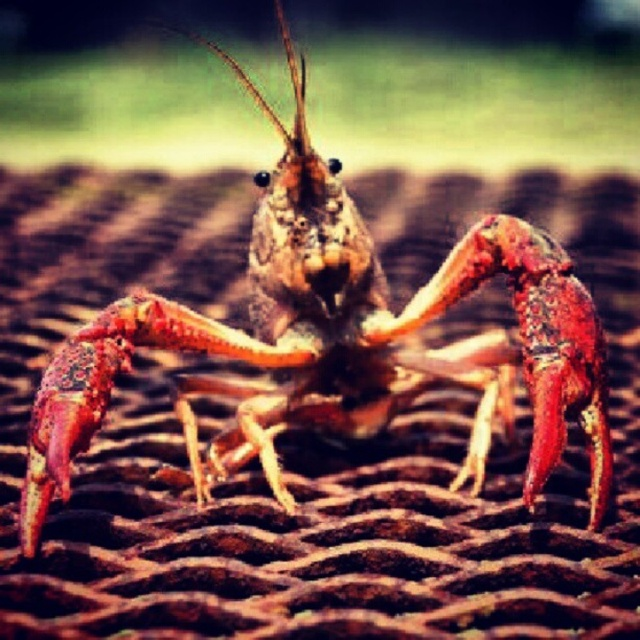Crab: (18, 0, 613, 561)
